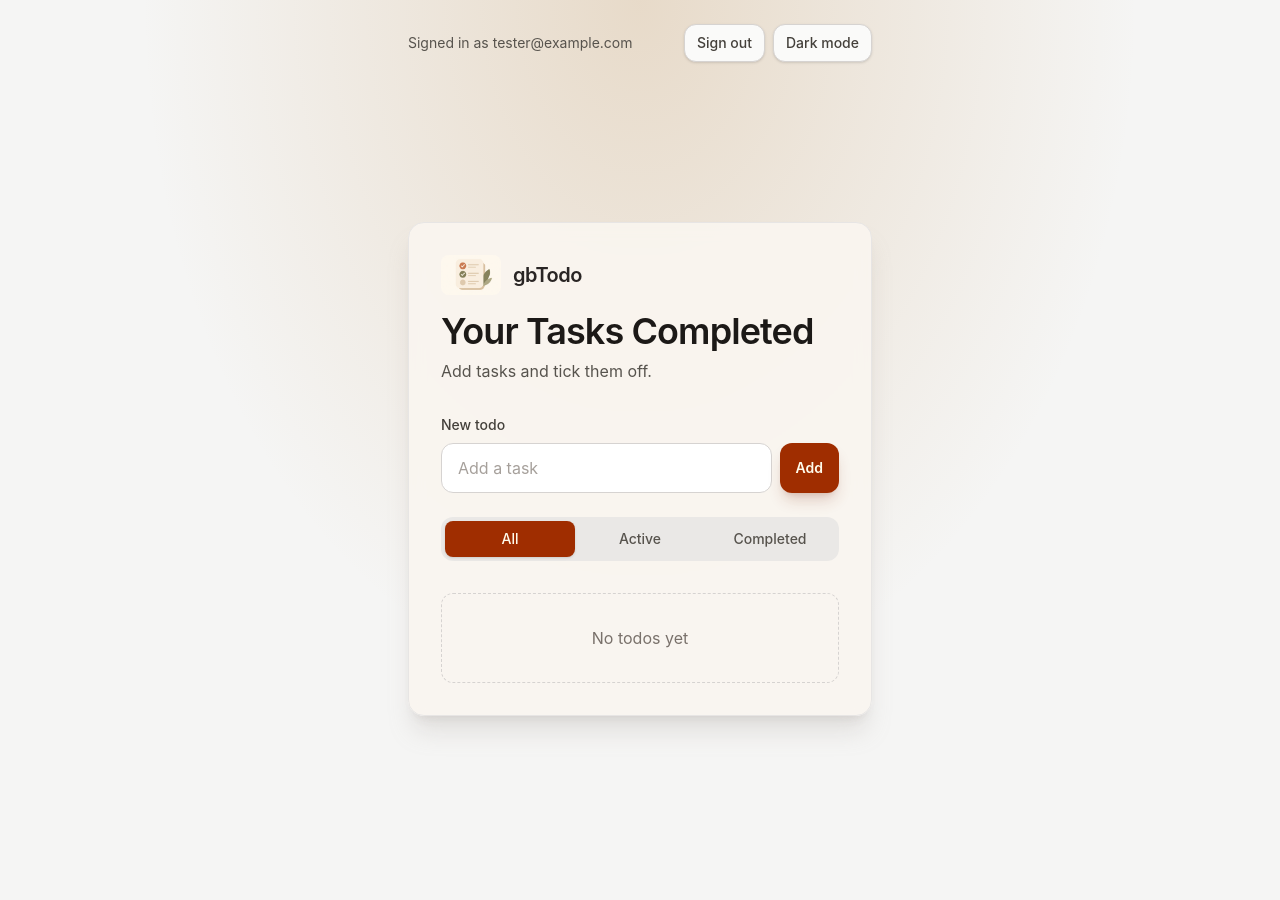
theme toggle › switches theme in an accessible way when clicked
Expected: the field labelled "New todo" is shown, [441,443,772,493]
Click the button with aria-label "switch to dark mode": (822, 43) [773,24,872,62]
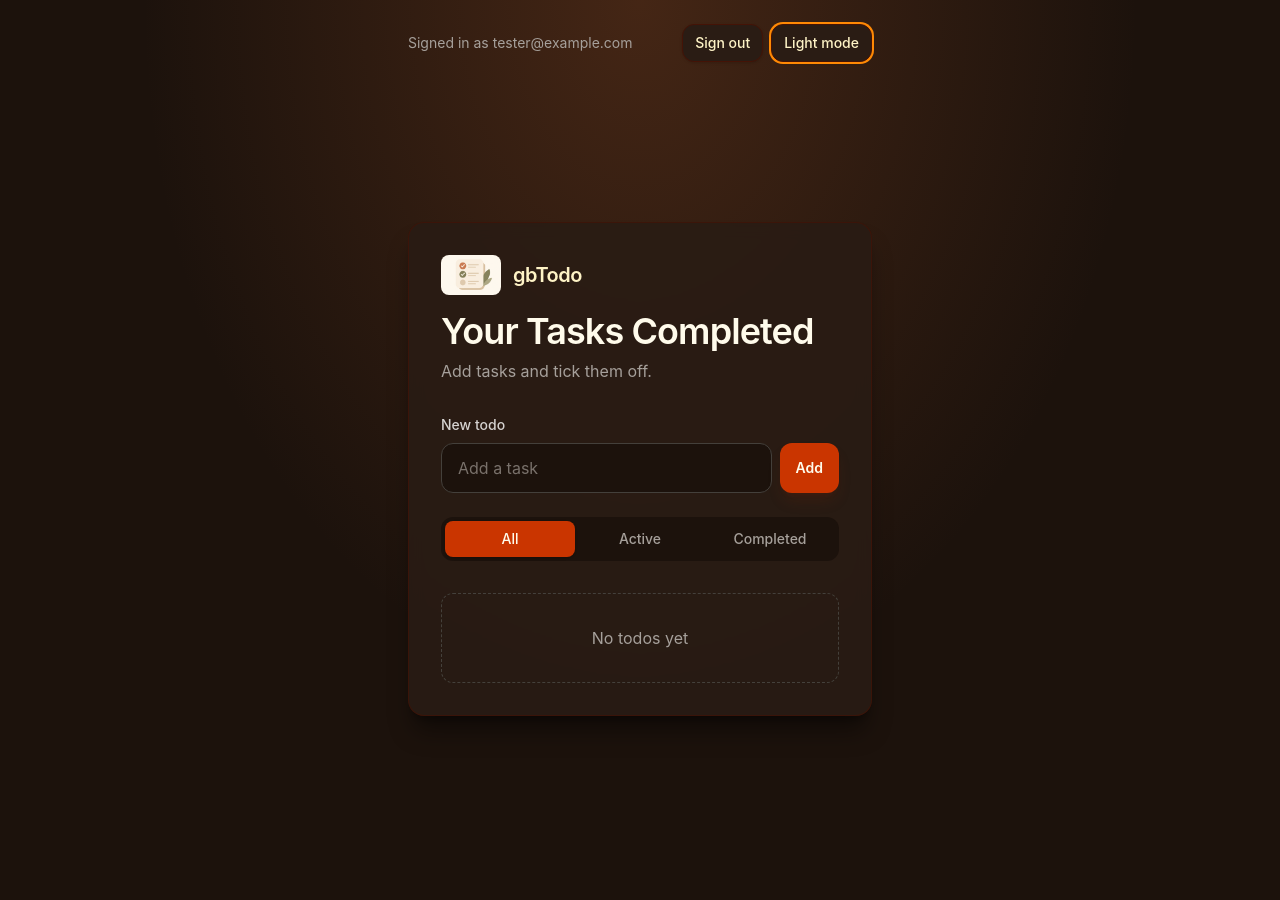
Now the button with aria-label "switch to light mode" is shown
Now the element named "dark theme" is shown, box [408,222,872,716]
Click the button with aria-label "switch to light mode": (822, 43) [771,24,872,62]
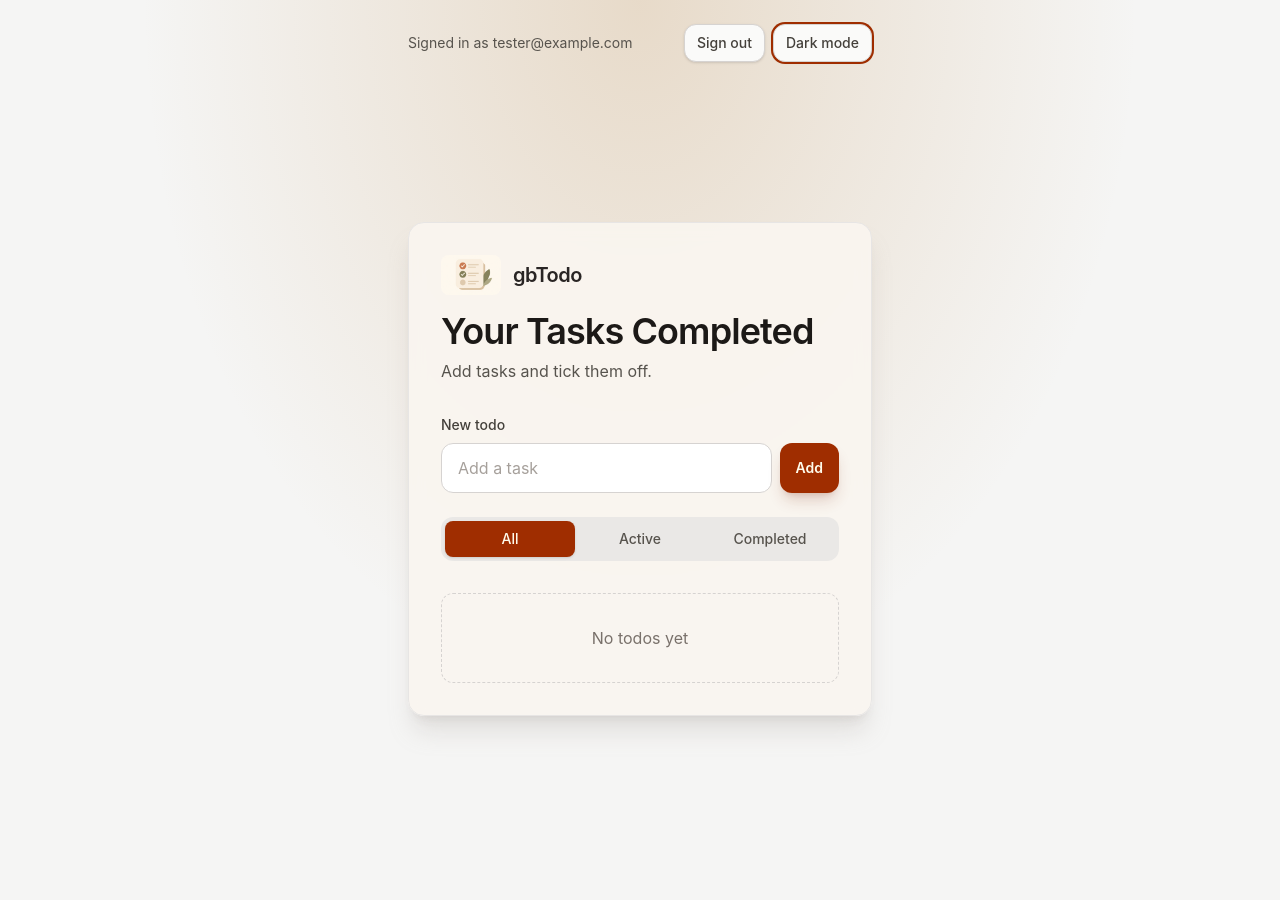
Now the button with aria-label "switch to dark mode" is shown, box [773,24,872,62]
Now the element named "light theme" is shown, box [408,222,872,716]
